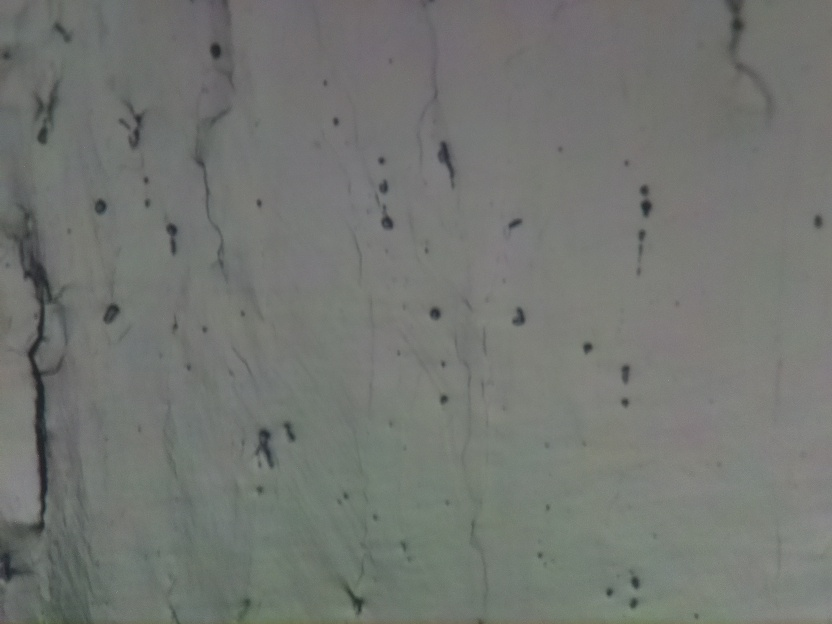crack: (17, 215, 63, 525), (723, 0, 771, 124)
